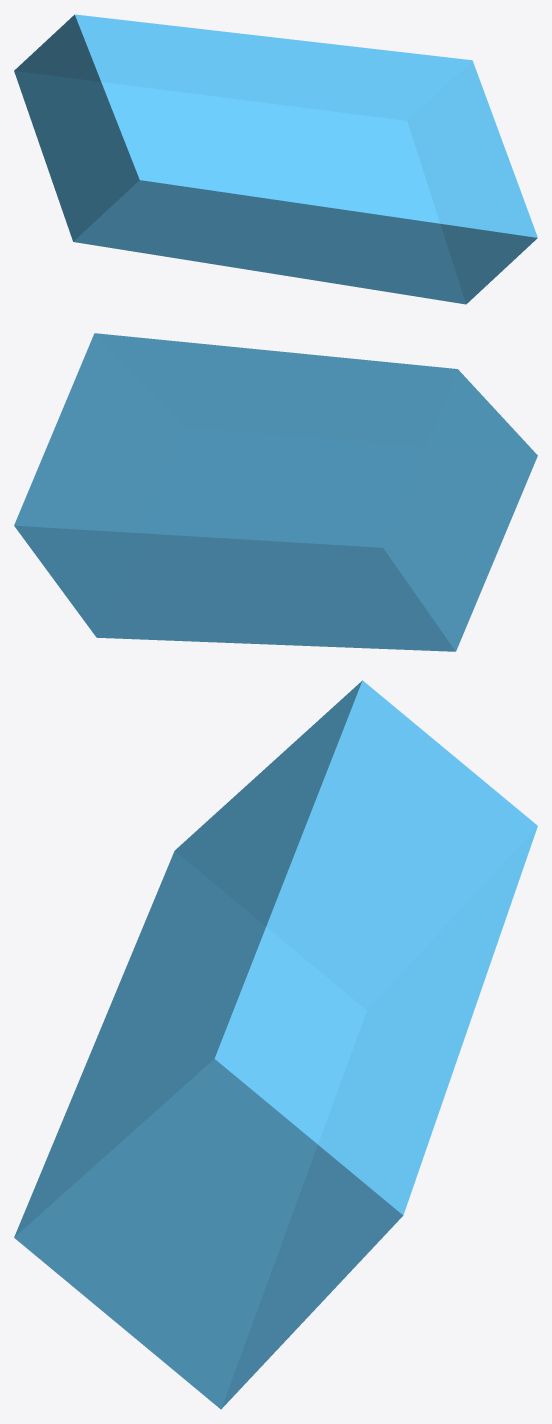
File: Event_420604493_HErechit_44.fbx
3 views of the same model, one above another, from view 1: azimuth 30°, elevation 25°; view 2: azimuth 150°, elevation 25°; view 3: azimuth 270°, elevation 25° (orthographic). The views are drawn at different scales.
Visible parts, largest first — view 1: Model; view 2: Model; view 3: Model.
Part boxes in pixels (x1,y1,x2,y2): Model: [14, 14, 537, 304]; Model: [14, 333, 537, 651]; Model: [14, 680, 537, 1409].
Bounding box in the file's own units: 0.8507 × 0.7923 × 0.7712.
